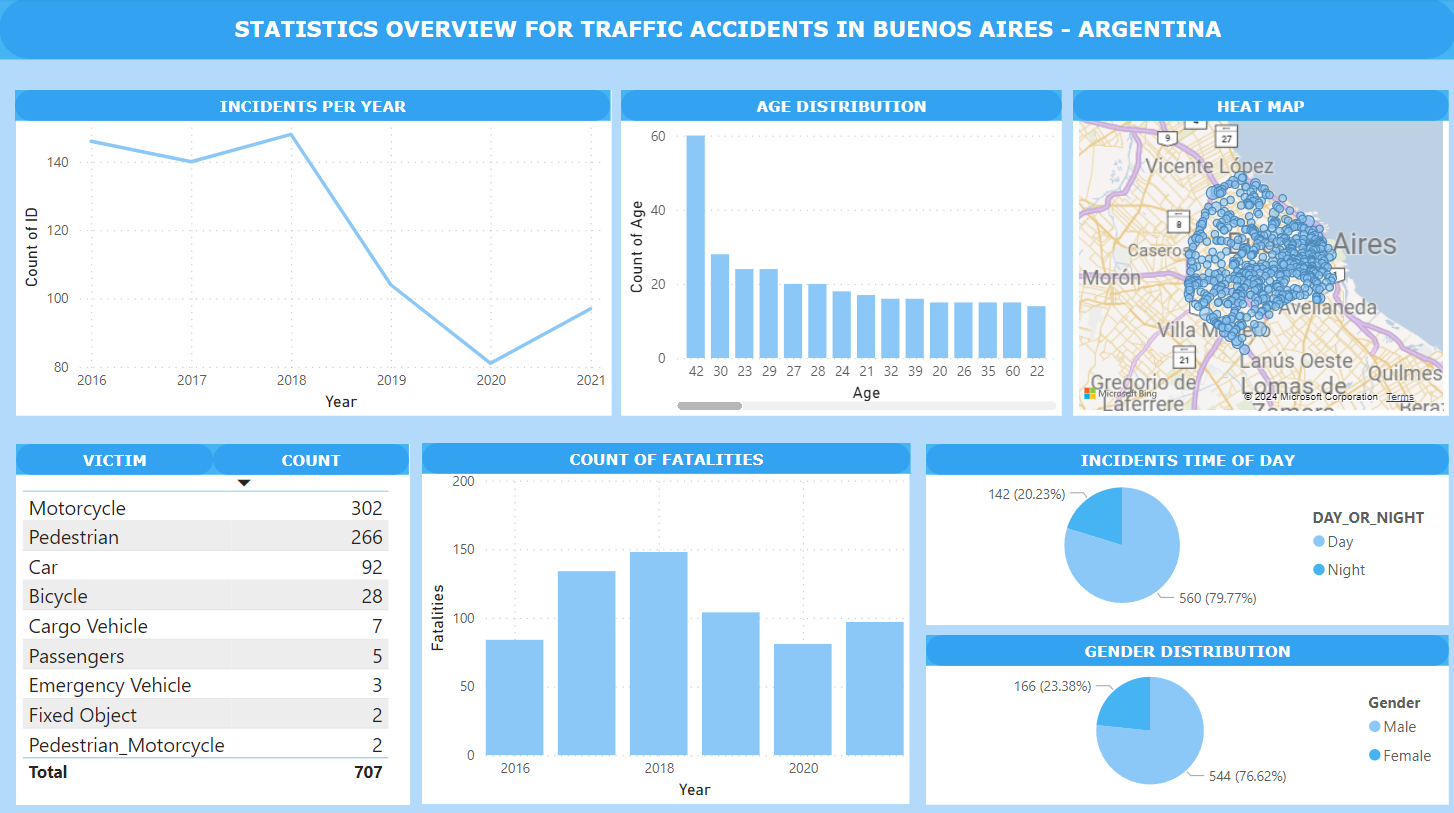

The page's visual inventory and layout, read from the dashboard file:
{"tool":"powerbi","page":{"name":"Page 1","canvas":[1280,720],"ordinal":0},"visuals":[{"type":"map","title":"Incident Heatmap","fields":{"Size":["CountNonNull(combined_dataset2.NUMBER_OF_VICTIMS)"],"Y":["combined_dataset2.POS_Y"],"X":["combined_dataset2.POS_X"]},"box":[942.9,80.8,329.6,286],"z":1000},{"type":"pieChart","fields":{"Category":["combined_dataset2.Gender"],"Y":["CountNonNull(combined_dataset2.ID)"]},"box":[813.7,559.7,459.4,148.9],"z":2000},{"type":"tableEx","fields":{"Values":["combined_dataset2.VICTIM","CountNonNull(combined_dataset2.VICTIM)"]},"box":[14.6,391.3,345.6,317.3],"z":3000},{"type":"pieChart","fields":{"Category":["combined_dataset2.DAY_OR_NIGHT"],"Y":["CountNonNull(combined_dataset2.Incident_ID)"]},"box":[813.7,391.3,459.4,158.7],"z":4000},{"type":"lineChart","fields":{"Category":["combined_dataset2.DATE.Variation.Date Hierarchy.Year"],"Y":["CountNonNull(combined_dataset2.ID)"]},"box":[14.6,80.8,522.6,286],"z":5000},{"type":"columnChart","fields":{"Category":["combined_dataset2.DATE.Variation.Date Hierarchy.Year"],"Y":["CountNonNull(combined_dataset2.FatalityBoolean)"]},"box":[371.6,391,428,317.1],"z":6000},{"type":"clusteredColumnChart","fields":{"Category":["combined_dataset2.Age"],"Y":["CountNonNull(combined_dataset2.Age)"]},"box":[545.8,87.5,387.4,279.4],"z":7000},{"type":"shape","box":[14.4,80.8,522.7,27.3],"z":8000},{"type":"shape","box":[545.8,80.8,387.4,27.3],"z":9000},{"type":"shape","box":[943,80.8,330,27.3],"z":10000},{"type":"shape","box":[14.6,391.3,173.3,27.3],"z":11000},{"type":"shape","box":[187.9,391.3,172.3,27.3],"z":12000},{"type":"shape","box":[371.4,390.5,428.9,27.1],"z":13000},{"type":"shape","box":[813.7,391.3,459.4,27.3],"z":14000},{"type":"shape","box":[813.7,559.7,459.4,27.3],"z":15000},{"type":"shape","box":[0,0,1280,53.5],"z":16000}]}

Visuals, with their boxes in screenshot pixels (x1, y1, x2, y2), scaled from the page's 1280x720 canvas onto the 1454x813 screenshot:
"Incident Heatmap" map: {"left": 1071, "top": 91, "right": 1445, "bottom": 414}
pieChart - combined_dataset2.Gender x CountNonNull(combined_dataset2.ID): {"left": 924, "top": 632, "right": 1446, "bottom": 800}
tableEx - combined_dataset2.VICTIM x CountNonNull(combined_dataset2.VICTIM): {"left": 17, "top": 442, "right": 409, "bottom": 800}
pieChart - combined_dataset2.DAY_OR_NIGHT x CountNonNull(combined_dataset2.Incident_ID): {"left": 924, "top": 442, "right": 1446, "bottom": 621}
lineChart - combined_dataset2.DATE.Variation.Date Hierarchy.Year x CountNonNull(combined_dataset2.ID): {"left": 17, "top": 91, "right": 610, "bottom": 414}
columnChart - combined_dataset2.DATE.Variation.Date Hierarchy.Year x CountNonNull(combined_dataset2.FatalityBoolean): {"left": 422, "top": 442, "right": 908, "bottom": 800}
clusteredColumnChart - combined_dataset2.Age x CountNonNull(combined_dataset2.Age): {"left": 620, "top": 99, "right": 1060, "bottom": 414}
shape: {"left": 16, "top": 91, "right": 610, "bottom": 122}
shape: {"left": 620, "top": 91, "right": 1060, "bottom": 122}
shape: {"left": 1071, "top": 91, "right": 1446, "bottom": 122}
shape: {"left": 17, "top": 442, "right": 213, "bottom": 473}
shape: {"left": 213, "top": 442, "right": 409, "bottom": 473}
shape: {"left": 422, "top": 441, "right": 909, "bottom": 472}
shape: {"left": 924, "top": 442, "right": 1446, "bottom": 473}
shape: {"left": 924, "top": 632, "right": 1446, "bottom": 663}
shape: {"left": 0, "top": 0, "right": 1453, "bottom": 60}
